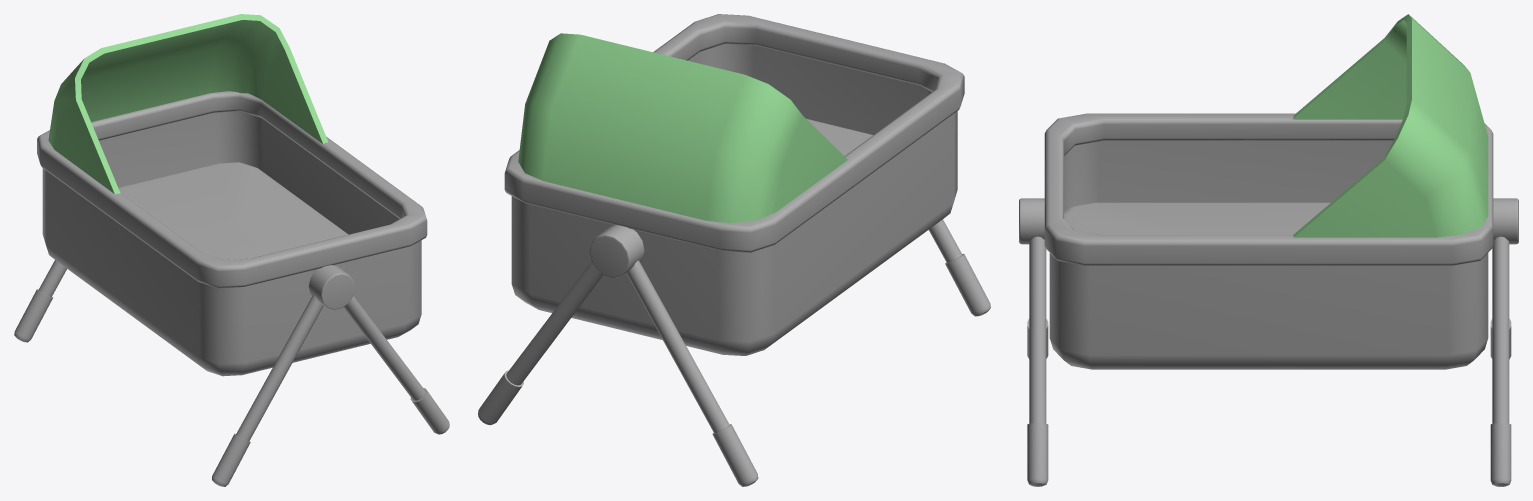
Rendered from Swing_03.fbx.
The picture shows the model from 3 angles, left to right: view 1: azimuth 30°, elevation 25°; view 2: azimuth 150°, elevation 25°; view 3: azimuth 270°, elevation 25°; orthographic projection. The views are drawn at different scales.
Visible parts, largest first — view 1: Swing_03, Stand_M; view 2: Swing_03, Stand_M; view 3: Swing_03, Stand_M.
Part boxes in pixels (box(x1,y1,x2,y2)): Swing_03: box(37, 14, 427, 376); Stand_M: box(14, 260, 449, 486); Swing_03: box(504, 14, 964, 355); Stand_M: box(478, 219, 990, 486); Swing_03: box(1044, 14, 1493, 369); Stand_M: box(1019, 198, 1518, 486).
Size of the model in its own units: 90.34 by 114 by 141.
Materials: 3 (1 with a texture image).
